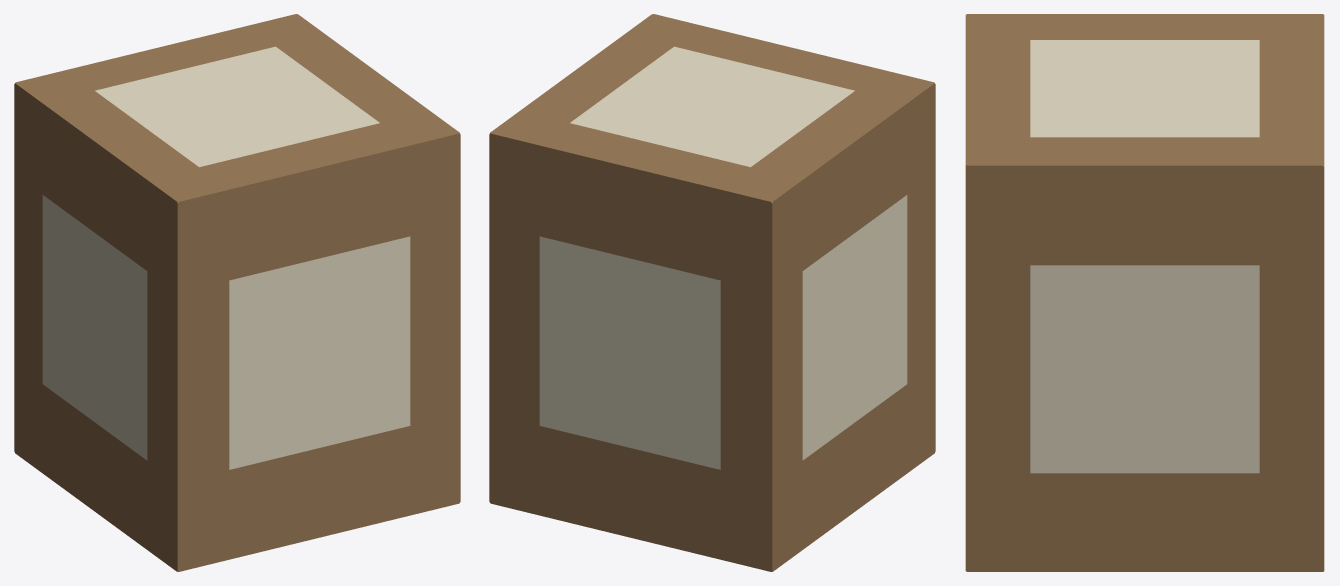
File: SM_StorageLabelBoxSmall.fbx
3 renders of one model, left to right at view 1: azimuth 30°, elevation 25°; view 2: azimuth 150°, elevation 25°; view 3: azimuth 270°, elevation 25°, orthographic. The views are drawn at different scales.
Visible parts, largest first — view 1: SM_StorageLabelBoxSmall; view 2: SM_StorageLabelBoxSmall; view 3: SM_StorageLabelBoxSmall.
Boxes of the visible parts, left/top/right/bottom form: SM_StorageLabelBoxSmall: left=14, top=14, right=460, bottom=571; SM_StorageLabelBoxSmall: left=489, top=14, right=935, bottom=571; SM_StorageLabelBoxSmall: left=965, top=14, right=1324, bottom=571.
Size of the model in its own units: 0.2014 by 0.2014 by 0.2507.
